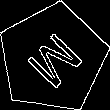M_SE: (19, 24, 86, 92)
